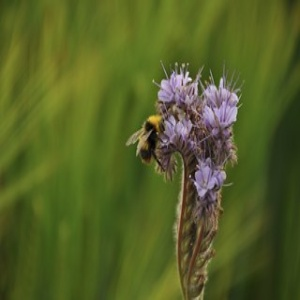bee: (127, 114, 165, 170)
